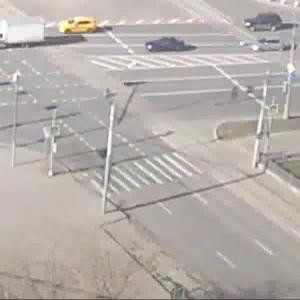car: (1, 16, 48, 49), (141, 33, 192, 55), (56, 16, 105, 34), (250, 38, 287, 56), (249, 15, 281, 33)
